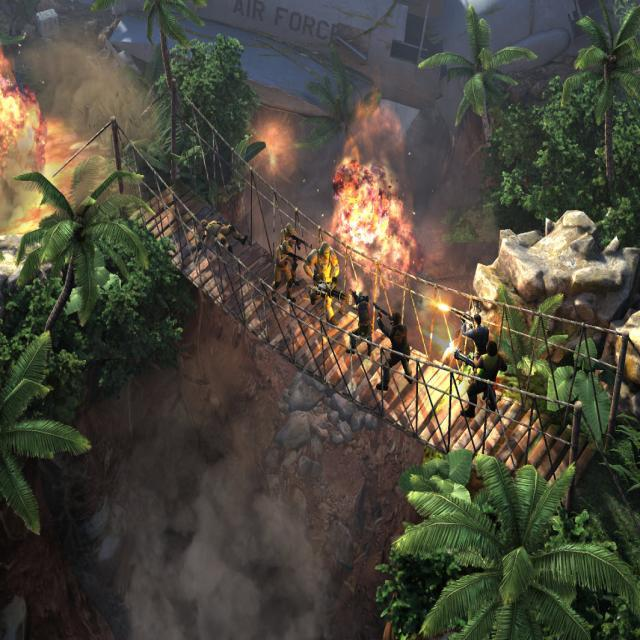Fire: (326, 149, 422, 322), (0, 44, 76, 260)
Smoke: (85, 417, 337, 640)
